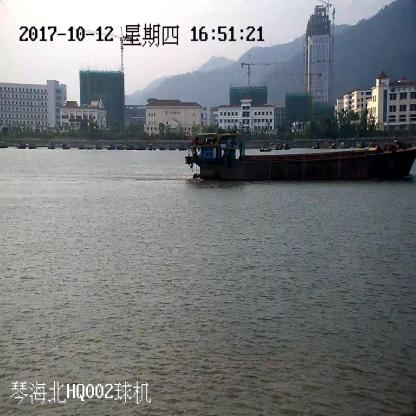Bulk Carrier: (186, 132, 416, 182)
